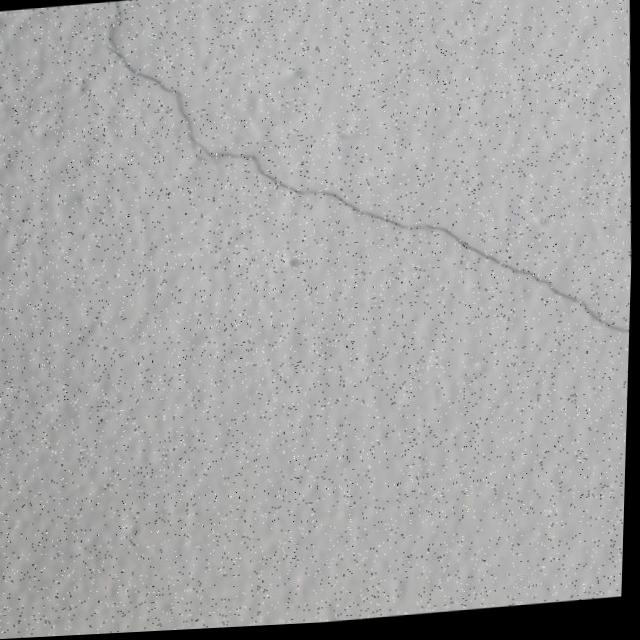Crack: (95, 0, 640, 394)
